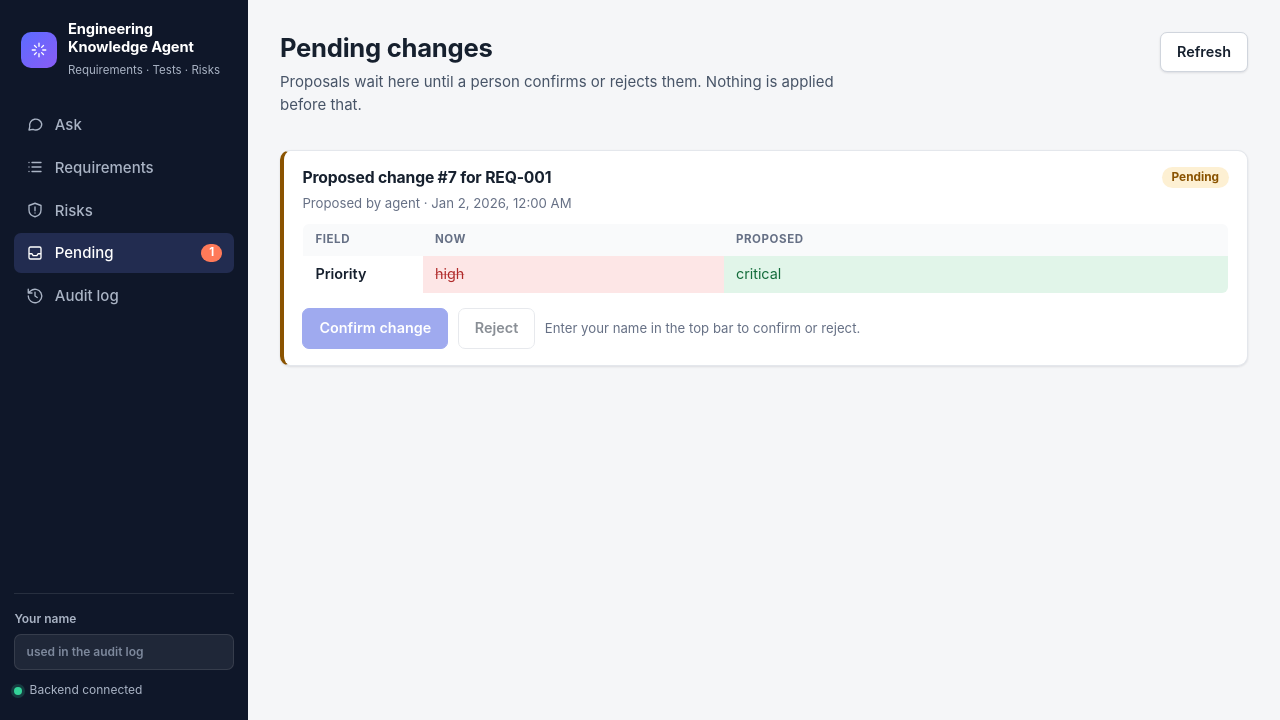
Test: pending page › keeps a confirmed card, with its impact, after the list reloads
The image size is (1280, 720).
In the field with placeholder "used in the audit log": (124, 652) left=14, top=634, right=234, bottom=670, type "Rachna"
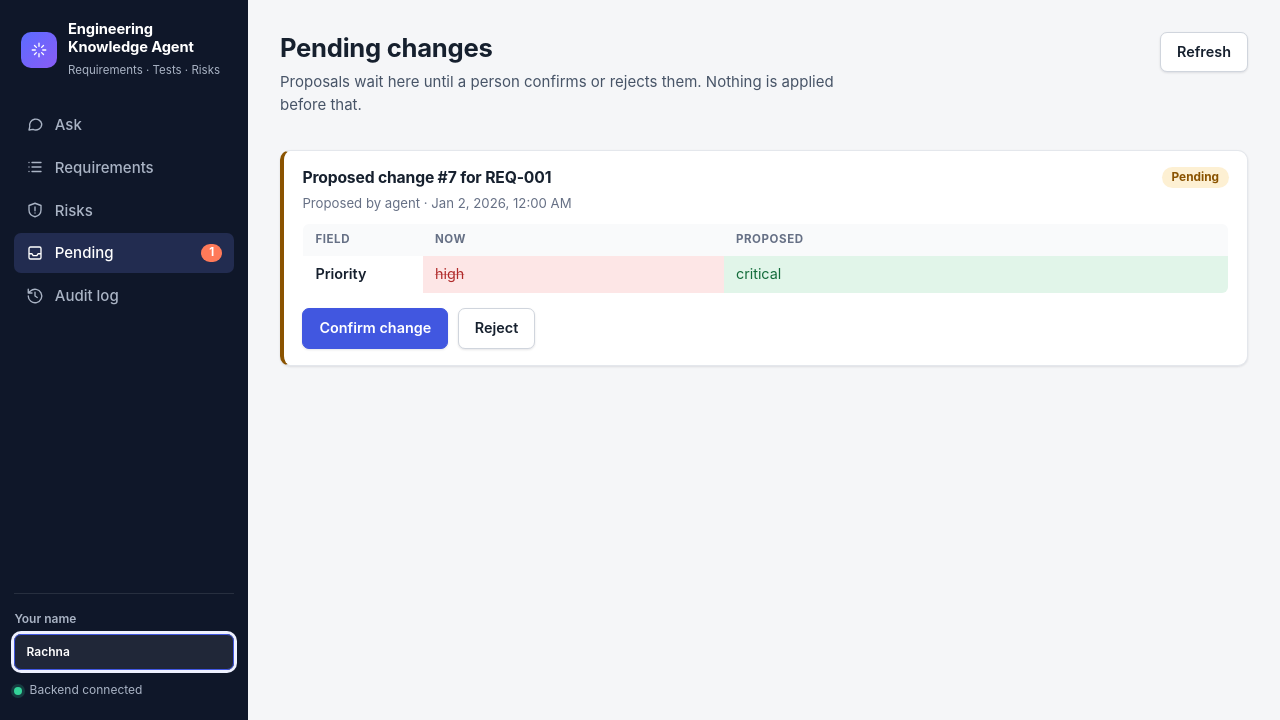
Click the button "Confirm change": (375, 329) left=302, top=308, right=448, bottom=349
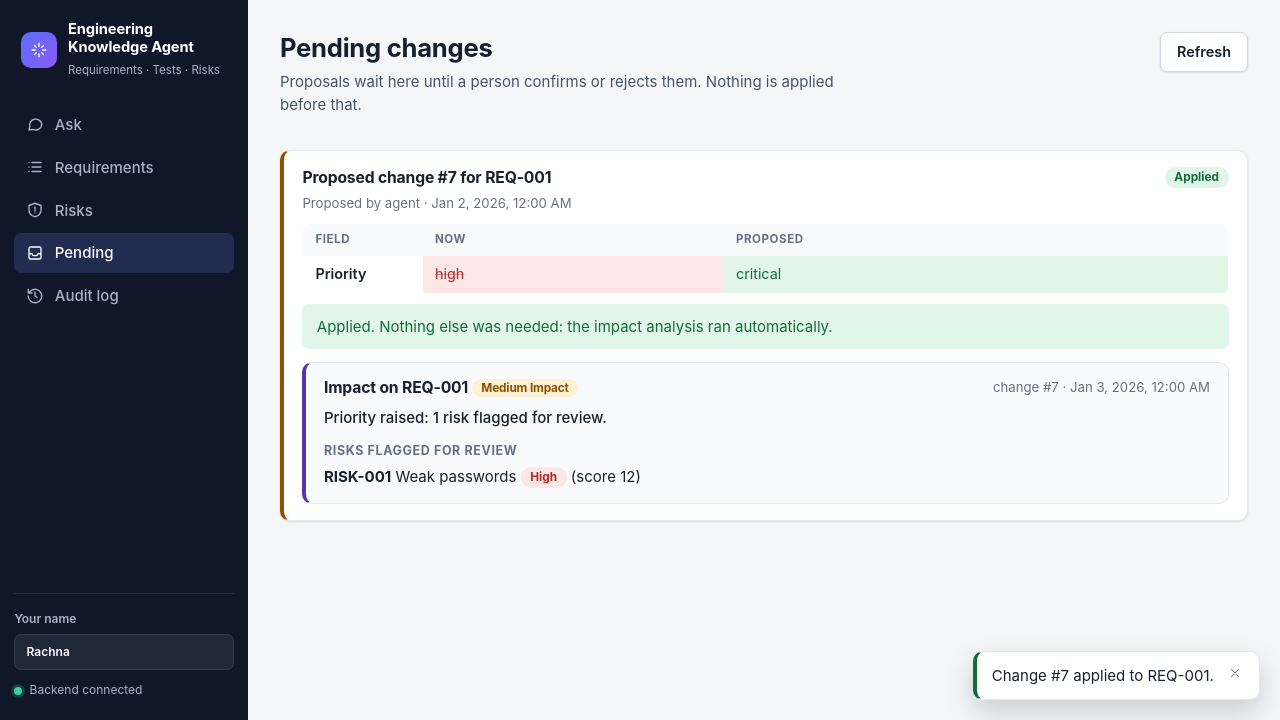
Now the text "Priority raised: 1 risk flagged for review." is shown, box left=324, top=408, right=607, bottom=427
